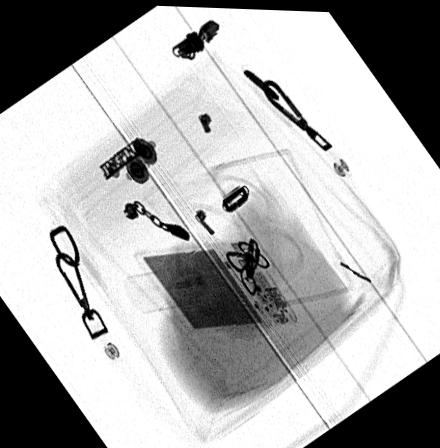Powerbank: (132, 238, 297, 333)
